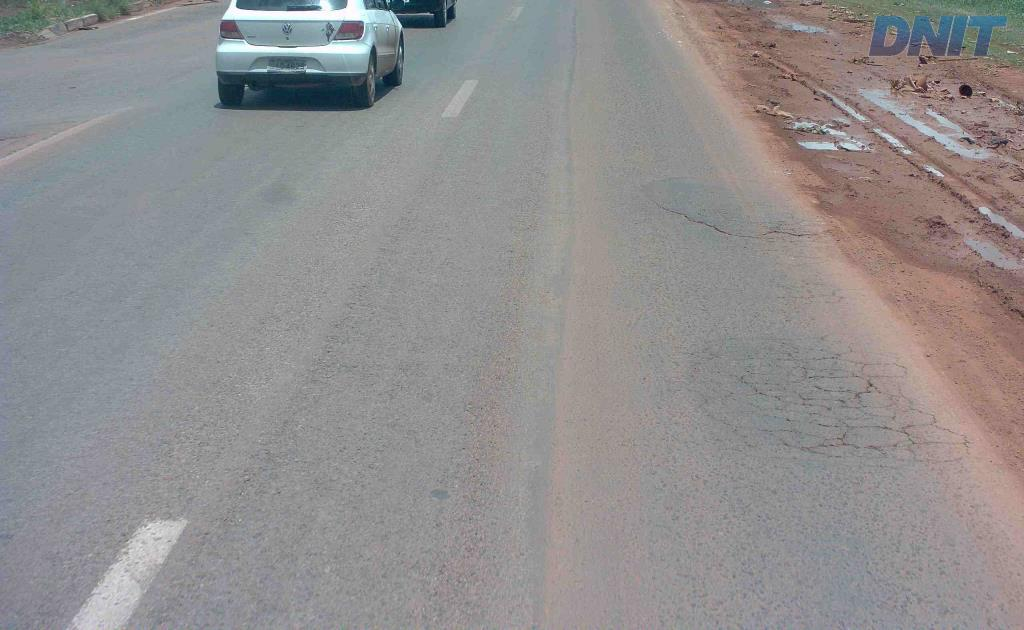crack: (811, 374, 882, 409), (793, 418, 860, 454)
